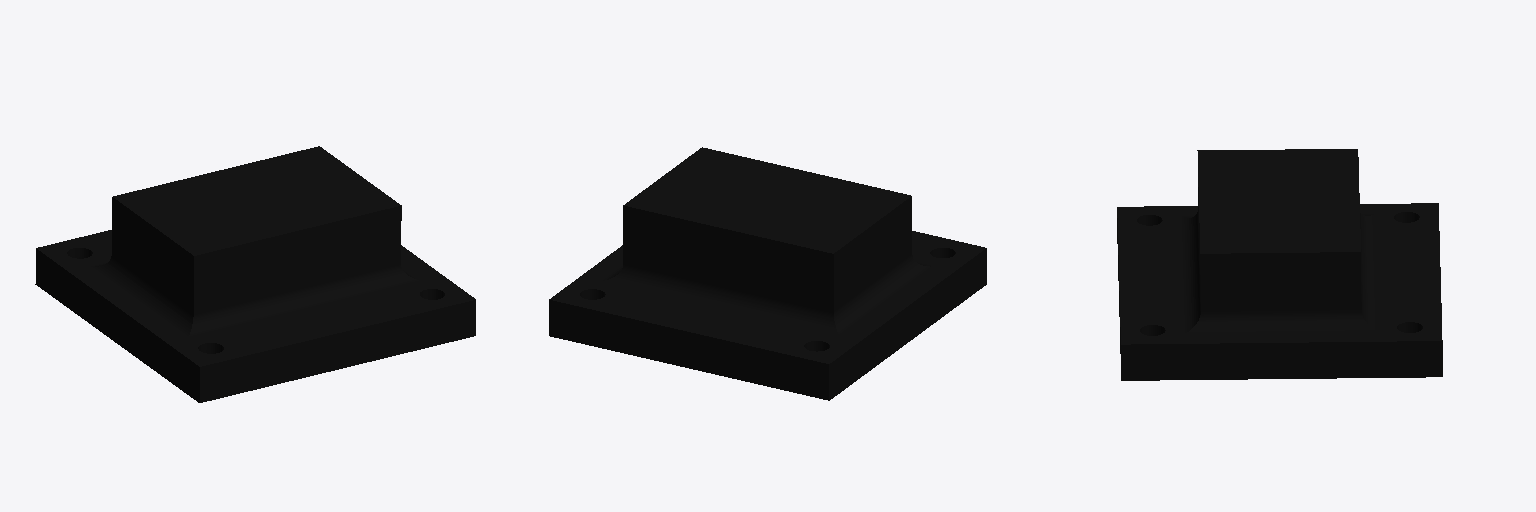
File: state.obj
3 views of the same model, side by side, from view 1: azimuth 30°, elevation 25°; view 2: azimuth 150°, elevation 25°; view 3: azimuth 270°, elevation 25° (orthographic).
Parts seen in each view (by area): view 1: Assem1_-_Tool-1; view 2: Assem1_-_Tool-1; view 3: Assem1_-_Tool-1.
Boxes of the visible parts, x1=… form: Assem1_-_Tool-1: x1=35, y1=146, x2=475, y2=402; Assem1_-_Tool-1: x1=549, y1=147, x2=986, y2=400; Assem1_-_Tool-1: x1=1117, y1=149, x2=1442, y2=380.
Size of the model in its own units: 4.68 by 1.78 by 4.68.